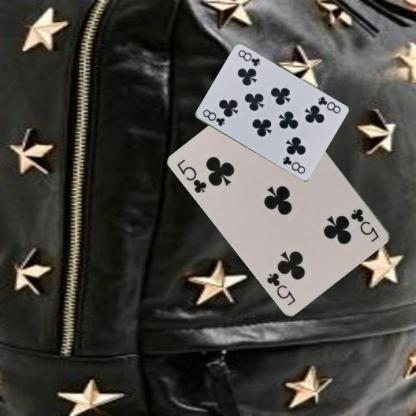5c: (174, 156, 208, 194), (348, 206, 381, 244)
8c: (314, 94, 342, 115), (200, 107, 226, 128)
